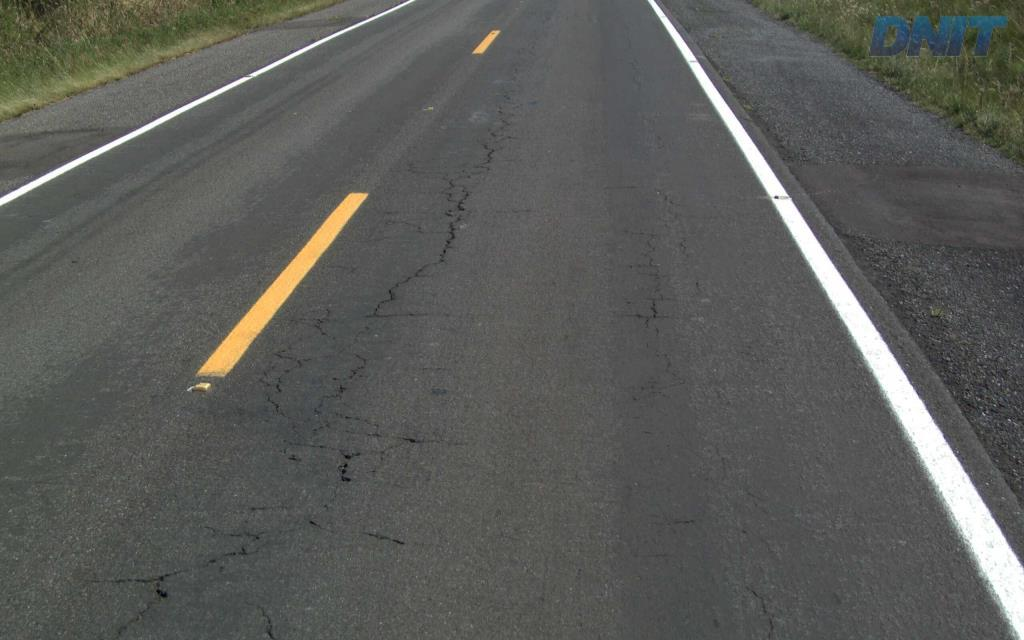crack: (127, 569, 181, 626)
